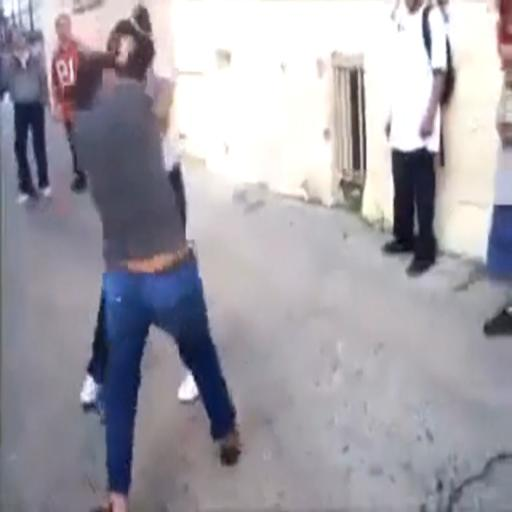violencia: (50, 0, 258, 512)
